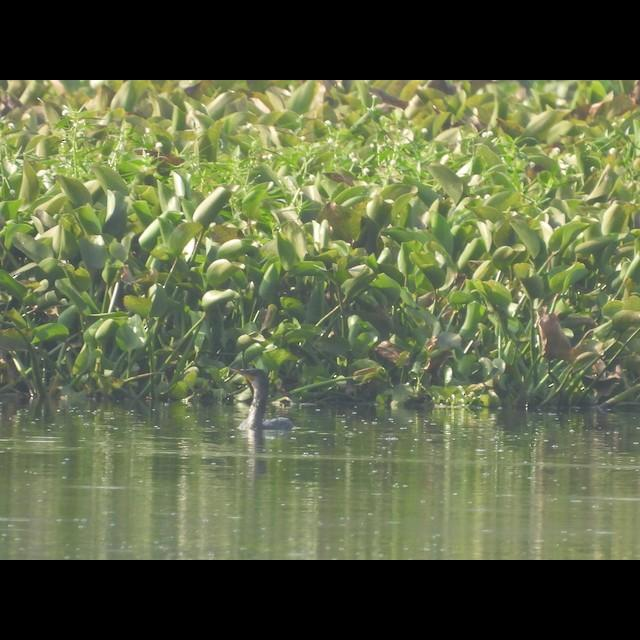cormorant: (223, 360, 305, 438)
